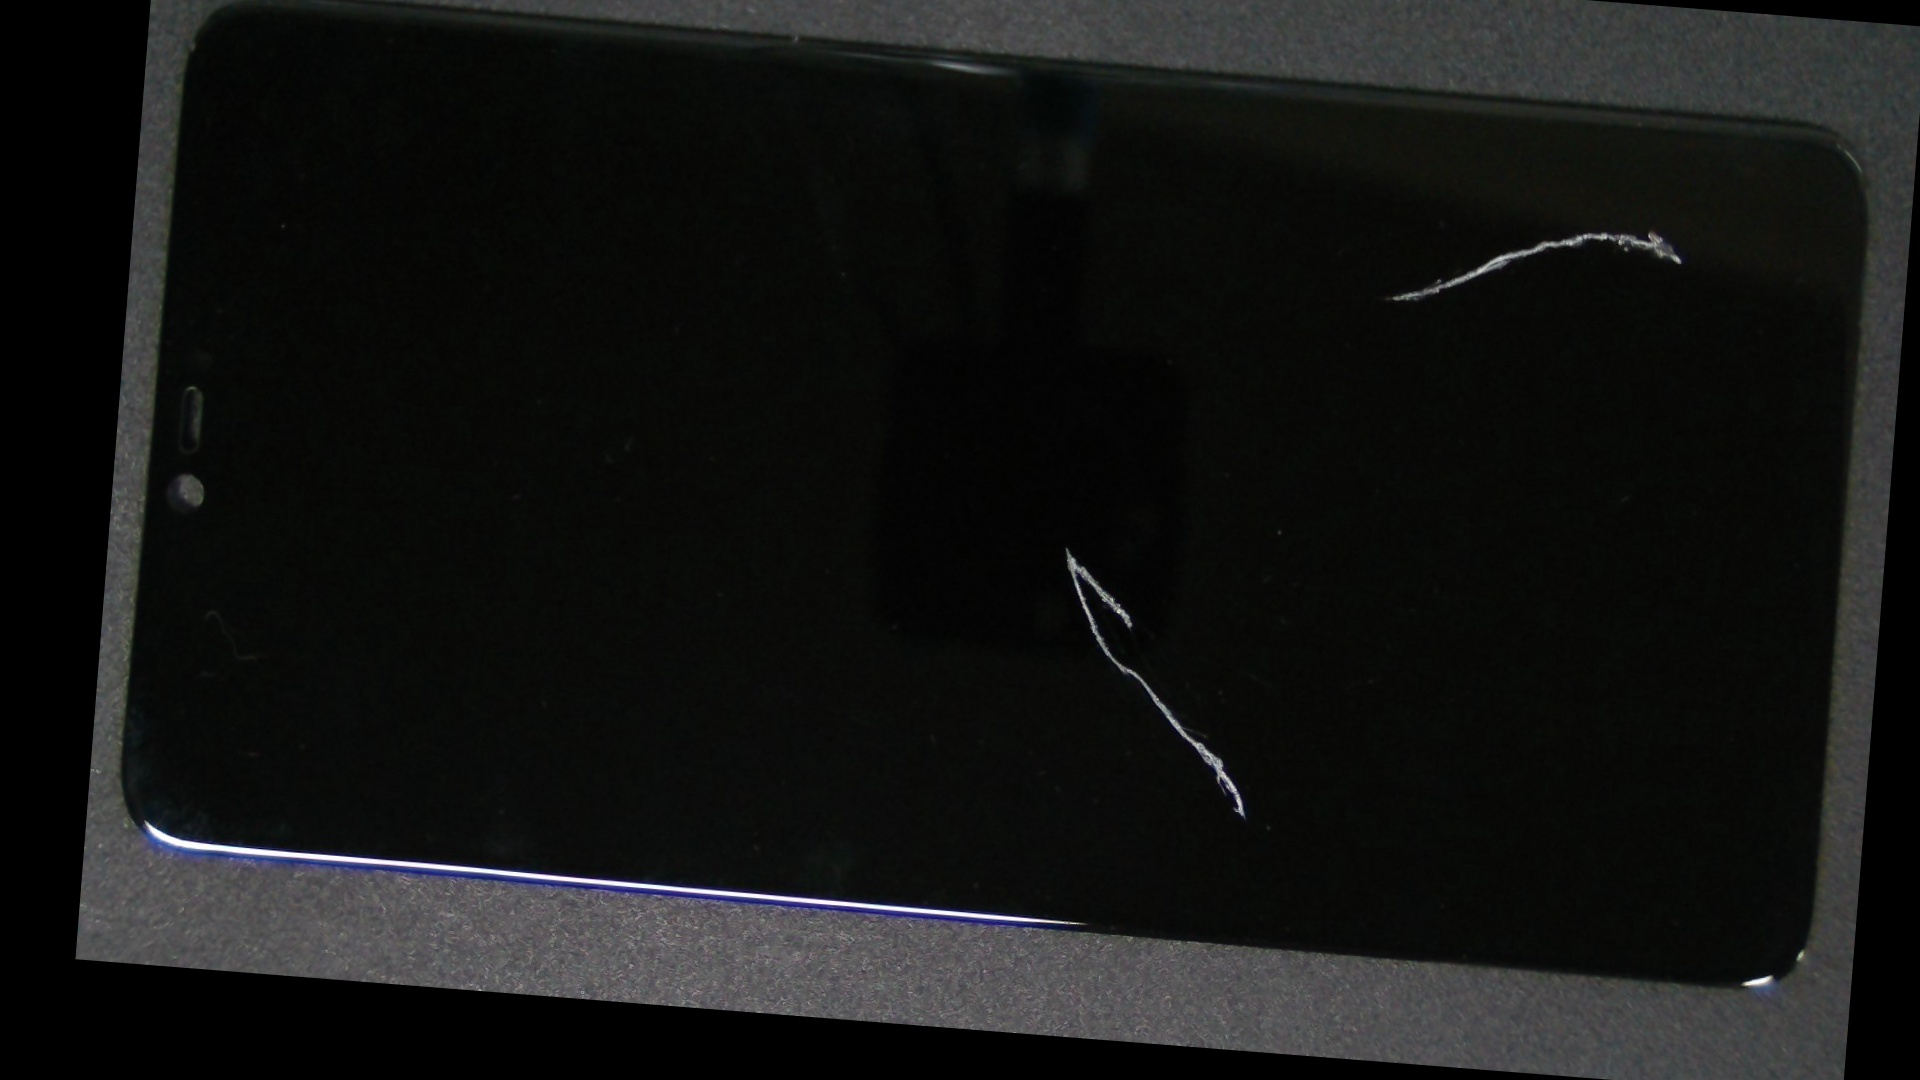oil: (566, 216, 1563, 876), (886, 58, 1917, 360)
